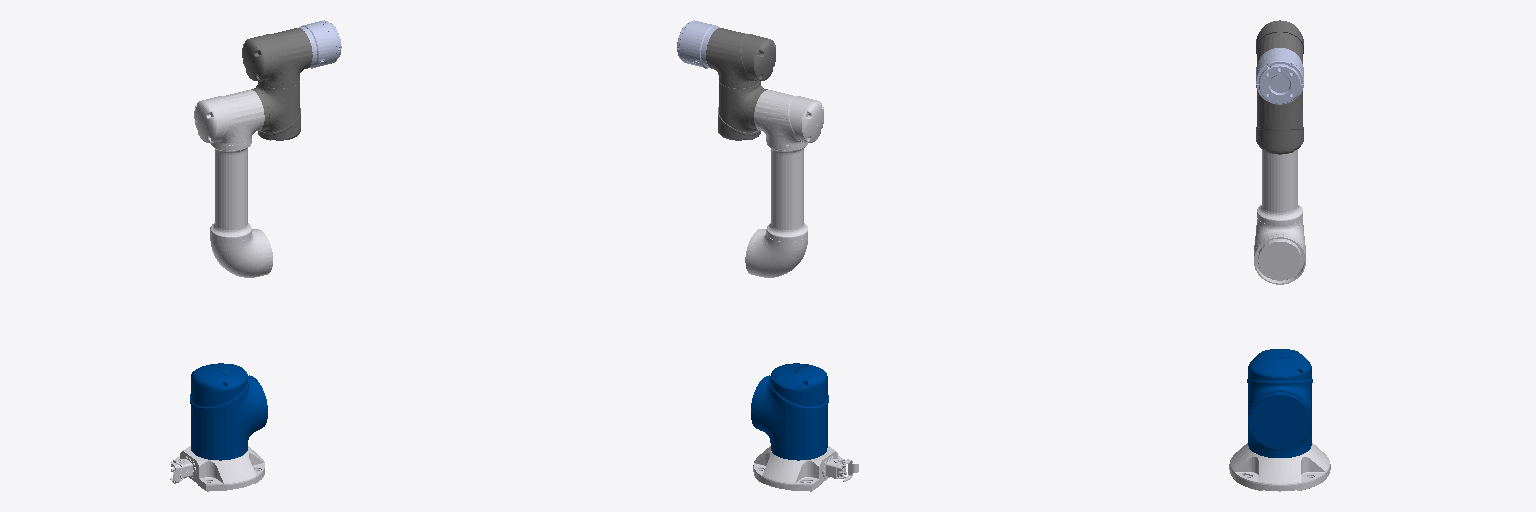
The robot description file, URDF, robot "gcr3_618":
<?xml version="1.0" encoding="utf-8"?>
<!-- This URDF was automatically created by SolidWorks to URDF Exporter! Originally created by [author] ([email redacted]) 
     Commit Version: 1.6.0-4-g7f85cfe  Build Version: 1.6.7995.38578
     For more information, please see http://wiki.ros.org/sw_urdf_exporter -->
<robot
  name="gcr3_618">
  <link
    name="base_link">
    <inertial>
      <origin
        xyz="-0.0027044 -4.3515E-05 0.02517"
        rpy="0 0 0" />
      <mass
        value="0.69" />
      <inertia
        ixx="0.0013529"
        ixy="-7.6869E-06"
        ixz="1.8003E-05"
        iyy="0.0013484"
        iyz="-1.1625E-06"
        izz="0.0022526" />
    </inertial>
    <visual>
      <origin
        xyz="0 0 0"
        rpy="0 0 0" />
      <geometry>
        <mesh
          filename="package://duco_support/meshes/GCR3_618/base_link.STL" />
      </geometry>
      <material
        name="">
        <color
          rgba="0.86667 0.86667 0.8902 1" />
      </material>
    </visual>
    <collision>
      <origin
        xyz="0 0 0"
        rpy="0 0 0" />
      <geometry>
        <mesh
          filename="package://duco_support/meshes/GCR3_618/base_link.STL" />
      </geometry>
    </collision>
  </link>
  <link
    name="link_1">
    <inertial>
      <origin
        xyz="9.5647E-06 0.0084876 0.0047728"
        rpy="0 0 0" />
      <mass
        value="1.84" />
      <inertia
        ixx="0.0040454"
        ixy="-1.6328E-07"
        ixz="-4.3269E-07"
        iyy="0.0034514"
        iyz="-0.00044221"
        izz="0.003967" />
    </inertial>
    <visual>
      <origin
        xyz="0 0 0"
        rpy="0 0 0" />
      <geometry>
        <mesh
          filename="package://duco_support/meshes/GCR3_618/link_1.STL" />
      </geometry>
      <material
        name="">
        <color
          rgba="0 0.31373 0.60392 1" />
      </material>
    </visual>
    <collision>
      <origin
        xyz="0 0 0"
        rpy="0 0 0" />
      <geometry>
        <mesh
          filename="package://duco_support/meshes/GCR3_618/link_1.STL" />
      </geometry>
    </collision>
  </link>
  <joint
    name="arm_1_joint_1"
    type="revolute">
    <origin
      xyz="0 0 0.1115"
      rpy="0 0 -1.5708" />
    <parent
      link="base_link" />
    <child
      link="link_1" />
    <axis
      xyz="0 0 1" />
    <limit
      lower="-3.1415926"
      upper="3.1415926"
      effort="70"
      velocity="3.926990817" />
  </joint>
  <link
    name="link_2">
    <inertial>
      <origin
        xyz="0.11526 -4.4273E-06 0.018453"
        rpy="0 0 0" />
      <mass
        value="3.876" />
      <inertia
        ixx="0.0059882"
        ixy="9.2952E-08"
        ixz="-0.00027038"
        iyy="0.010454"
        iyz="4.4904E-07"
        izz="0.010329" />
    </inertial>
    <visual>
      <origin
        xyz="0 0 0"
        rpy="0 0 0" />
      <geometry>
        <mesh
          filename="package://duco_support/meshes/GCR3_618/link_2.STL" />
      </geometry>
      <material
        name="">
        <color
          rgba="0 0.31373 0.60392 1" />
      </material>
    </visual>
    <collision>
      <origin
        xyz="0 0 0"
        rpy="0 0 0" />
      <geometry>
        <mesh
          filename="package://duco_support/meshes/GCR3_618/link_2.STL" />
      </geometry>
    </collision>
  </link>
  <joint
    name="arm_1_joint_2"
    type="revolute">
    <origin
      xyz="0 0.113 0"
      rpy="1.5708 -1.5708 3.1416" />
    <parent
      link="link_1" />
    <child
      link="link_2" />
    <axis
      xyz="0 0 1" />
    <limit
      lower="-3.1415926"
      upper="3.1415926"
      effort="70"
      velocity="3.926990817" />
  </joint>
  <link
    name="link_3">
    <inertial>
      <origin
        xyz="0.13802 5.4554E-07 -0.087867"
        rpy="0 0 0" />
      <mass
        value="1.756" />
      <inertia
        ixx="0.0021264"
        ixy="8.6595E-09"
        ixz="9.9311E-05"
        iyy="0.0055999"
        iyz="1.6087E-08"
        izz="0.0053973" />
    </inertial>
    <visual>
      <origin
        xyz="0 0 0"
        rpy="0 0 0" />
      <geometry>
        <mesh
          filename="package://duco_support/meshes/GCR3_618/link_3.STL" />
      </geometry>
      <material
        name="">
        <color
          rgba="0.86667 0.86667 0.8902 1" />
      </material>
    </visual>
    <collision>
      <origin
        xyz="0 0 0"
        rpy="0 0 0" />
      <geometry>
        <mesh
          filename="package://duco_support/meshes/GCR3_618/link_3.STL" />
      </geometry>
    </collision>
  </link>
  <joint
    name="arm_1_joint_3"
    type="revolute">
    <origin
      xyz="0.27 0 0"
      rpy="0 0 0" />
    <parent
      link="link_2" />
    <child
      link="link_3" />
    <axis
      xyz="0 0 1" />
    <limit
      lower="-3.1415926"
      upper="3.1415926"
      effort="34"
      velocity="3.926990817" />
  </joint>
  <link
    name="link_4">
    <inertial>
      <origin
        xyz="-1.3825E-06 0.0055194 -0.0053949"
        rpy="0 0 0" />
      <mass
        value="1.196" />
      <inertia
        ixx="0.0009089"
        ixy="-1.615E-09"
        ixz="2.7457E-09"
        iyy="0.00088088"
        iyz="0.00010612"
        izz="0.00080317" />
    </inertial>
    <visual>
      <origin
        xyz="0 0 0"
        rpy="0 0 0" />
      <geometry>
        <mesh
          filename="package://duco_support/meshes/GCR3_618/link_4.STL" />
      </geometry>
      <material
        name="">
        <color
          rgba="0.50196 0.50196 0.50196 1" />
      </material>
    </visual>
    <collision>
      <origin
        xyz="0 0 0"
        rpy="0 0 0" />
      <geometry>
        <mesh
          filename="package://duco_support/meshes/GCR3_618/link_4.STL" />
      </geometry>
    </collision>
  </link>
  <joint
    name="arm_1_joint_4"
    type="revolute">
    <origin
      xyz="0.26 0 0"
      rpy="0 0 1.5708" />
    <parent
      link="link_3" />
    <child
      link="link_4" />
    <axis
      xyz="0 0 1" />
    <limit
      lower="-3.1415926"
      upper="3.1415926"
      effort="34"
      velocity="3.926990817" />
  </joint>
  <link
    name="link_5">
    <inertial>
      <origin
        xyz="1.3829E-06 -0.0055194 -0.0053949"
        rpy="0 0 0" />
      <mass
        value="1.196" />
      <inertia
        ixx="0.0009089"
        ixy="-1.6004E-09"
        ixz="-2.7302E-09"
        iyy="0.00088088"
        iyz="-0.00010612"
        izz="0.00080317" />
    </inertial>
    <visual>
      <origin
        xyz="0 0 0"
        rpy="0 0 0" />
      <geometry>
        <mesh
          filename="package://duco_support/meshes/GCR3_618/link_5.STL" />
      </geometry>
      <material
        name="">
        <color
          rgba="0.50196 0.50196 0.50196 1" />
      </material>
    </visual>
    <collision>
      <origin
        xyz="0 0 0"
        rpy="0 0 0" />
      <geometry>
        <mesh
          filename="package://duco_support/meshes/GCR3_618/link_5.STL" />
      </geometry>
    </collision>
  </link>
  <joint
    name="arm_1_joint_5"
    type="revolute">
    <origin
      xyz="0 -0.091 0"
      rpy="1.5708 0 0" />
    <parent
      link="link_4" />
    <child
      link="link_5" />
    <axis
      xyz="0 0 1" />
    <limit
      lower="-3.1415926"
      upper="3.1415926"
      effort="34"
      velocity="3.926990817" />
  </joint>
  <link
    name="link_6">
    <inertial>
      <origin
        xyz="2.5419E-05 0.00024153 -0.028459"
        rpy="0 0 0" />
      <mass
        value="0.274" />
      <inertia
        ixx="0.00029342"
        ixy="-8.3241E-09"
        ixz="-6.6929E-11"
        iyy="0.00029324"
        iyz="-8.2956E-07"
        izz="0.00033876" />
    </inertial>
    <visual>
      <origin
        xyz="0 0 0"
        rpy="0 0 0" />
      <geometry>
        <mesh
          filename="package://duco_support/meshes/GCR3_618/link_6.STL" />
      </geometry>
      <material
        name="">
        <color
          rgba="0.79216 0.81961 0.93333 1" />
      </material>
    </visual>
    <collision>
      <origin
        xyz="0 0 0"
        rpy="0 0 0" />
      <geometry>
        <mesh
          filename="package://duco_support/meshes/GCR3_618/link_6.STL" />
      </geometry>
    </collision>
  </link>
  <joint
    name="arm_1_joint_6"
    type="revolute">
    <origin
      xyz="0 0.101 0"
      rpy="-1.5708 0 0" />
    <parent
      link="link_5" />
    <child
      link="link_6" />
    <axis
      xyz="0 0 1" />
    <limit
      lower="-3.1415926"
      upper="3.145926"
      effort="34"
      velocity="3.926990817" />
  </joint>
</robot>

--- Render facts (derived) ---
The picture shows the robot from 3 angles, left to right: view 1: azimuth 30°, elevation 25°; view 2: azimuth 150°, elevation 25°; view 3: azimuth 270°, elevation 25°; orthographic projection.
Robot: gcr3_618 — 7 links, 6 joints (6 revolute); root link base_link; default pose: every joint at zero.
Links seen in each view (by area): view 1: link_3, link_1, link_5, base_link, link_4, link_6; view 2: link_3, link_1, link_5, base_link, link_4, link_6; view 3: link_1, link_3, base_link, link_4, link_6, link_5.
Boxes of the visible links, bbox=[...] form: link_3: bbox=[194, 90, 272, 277]; link_1: bbox=[190, 363, 267, 460]; link_5: bbox=[242, 28, 312, 88]; base_link: bbox=[170, 446, 264, 491]; link_4: bbox=[251, 81, 300, 140]; link_6: bbox=[299, 20, 341, 68]; link_3: bbox=[745, 90, 823, 277]; link_1: bbox=[751, 363, 828, 460]; link_5: bbox=[706, 28, 775, 88]; base_link: bbox=[753, 446, 858, 491]; link_4: bbox=[718, 81, 767, 140]; link_6: bbox=[677, 20, 719, 68]; link_1: bbox=[1247, 349, 1312, 457]; link_3: bbox=[1254, 149, 1305, 284]; base_link: bbox=[1229, 443, 1330, 491]; link_4: bbox=[1256, 91, 1303, 154]; link_6: bbox=[1256, 48, 1303, 104]; link_5: bbox=[1256, 20, 1303, 63].
Size in the robot's own frame: 0.3148 by 0.15 by 0.7686 metres.
Meshes: 7 distinct files referenced, 6 mesh visuals loaded (6 binary STL); not drawn: 1 (reference not matched to a file when rendering).